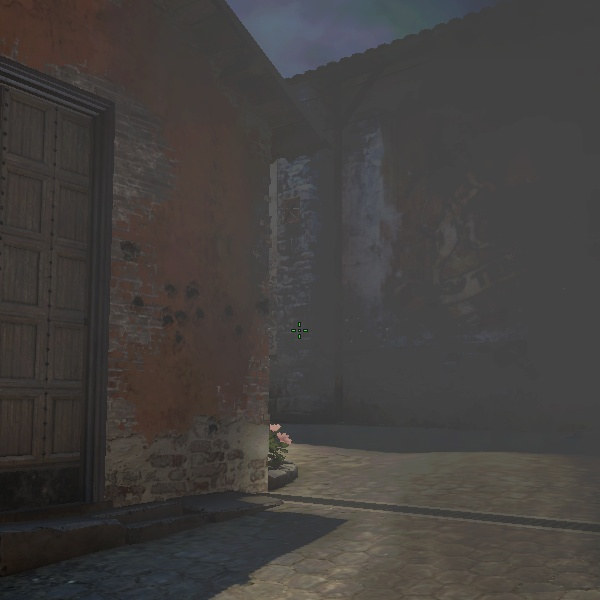ct_body: (260, 422, 300, 494)
